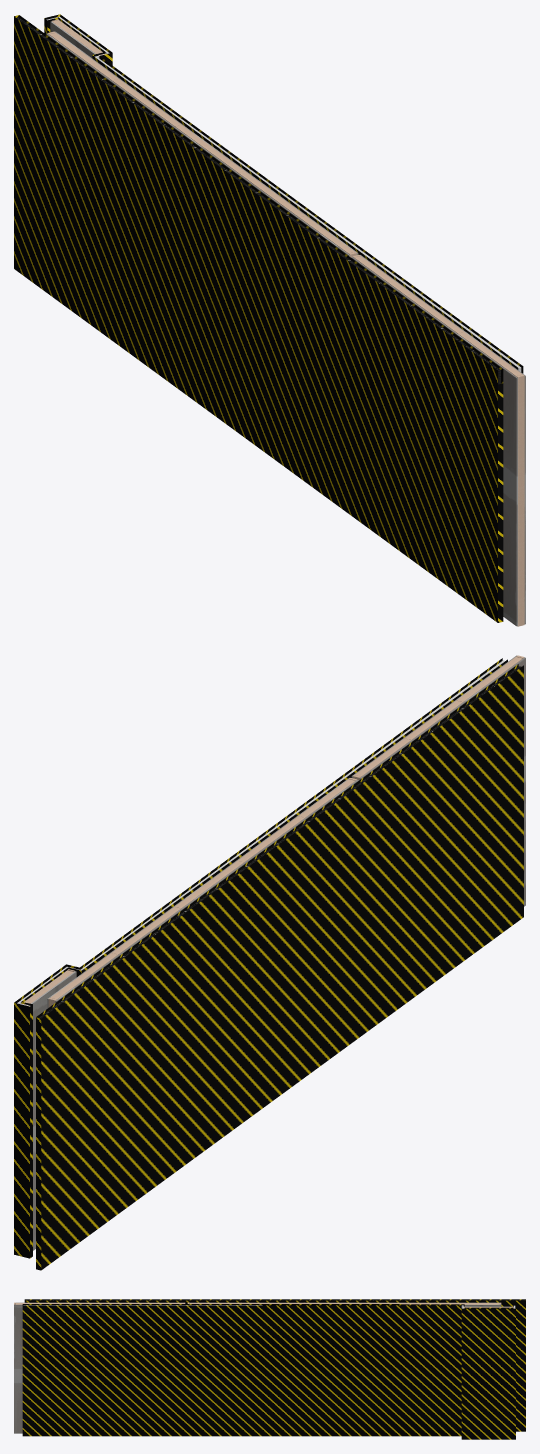
File: WALLSET_B.FBX
3 renders of one model, top to bottom at view 1: azimuth 30°, elevation 25°; view 2: azimuth 150°, elevation 25°; view 3: azimuth 270°, elevation 25°, orthographic. The views are drawn at different scales.
Parts seen in each view (by area): view 1: SELECTOR_04, DRYWALL_20, FRAME_167, WALL_SET_17; view 2: SELECTOR_04, FRAME_167, DRYWALL_20, WALL_SET_17; view 3: SELECTOR_04, DRYWALL_20, WALL_SET_17, FRAME_167.
Part boxes in pixels (x1,y1,x2,y2): SELECTOR_04: [14, 14, 523, 622]; DRYWALL_20: [46, 20, 525, 626]; FRAME_167: [47, 19, 524, 626]; WALL_SET_17: [16, 16, 521, 384]; SELECTOR_04: [14, 658, 523, 1270]; FRAME_167: [21, 655, 524, 1007]; DRYWALL_20: [20, 655, 525, 1250]; WALL_SET_17: [17, 660, 521, 1018]; SELECTOR_04: [22, 1299, 525, 1439]; DRYWALL_20: [14, 1302, 512, 1433]; WALL_SET_17: [23, 1300, 524, 1308]; FRAME_167: [14, 1302, 513, 1308].
Bounding box in the file's own units: 13.75 × 90.28 × 320.
